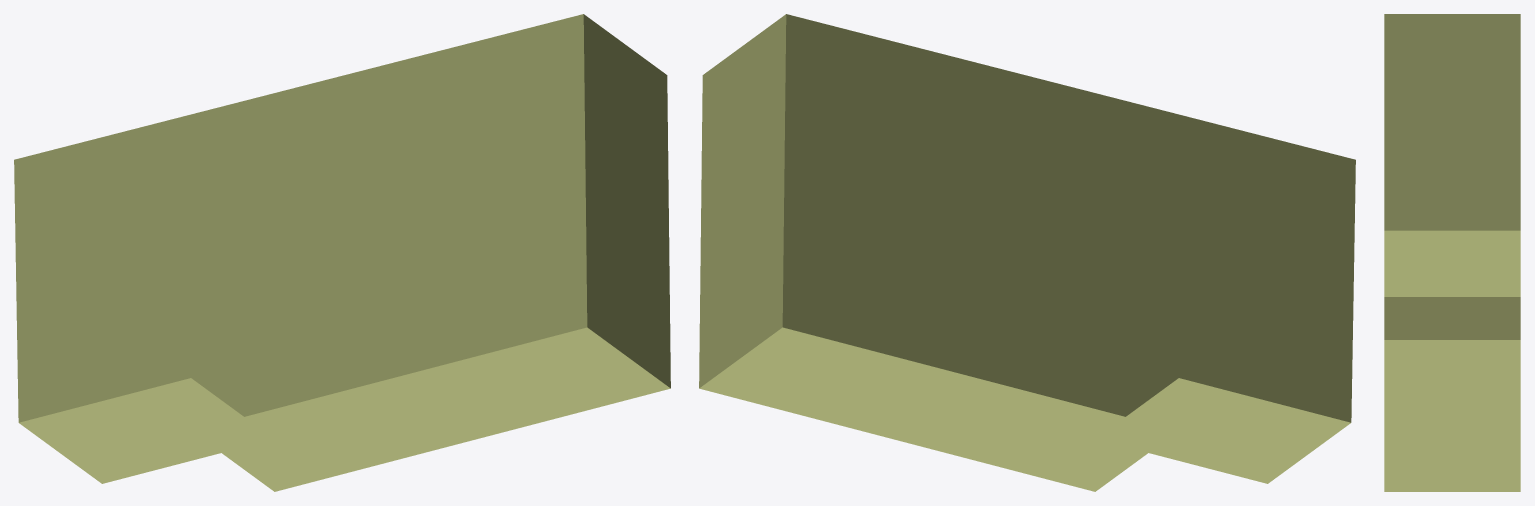
The picture shows the model from 3 angles, left to right: view 1: azimuth 30°, elevation 25°; view 2: azimuth 150°, elevation 25°; view 3: azimuth 270°, elevation 25°; orthographic projection. The views are drawn at different scales.
Parts seen in each view (by area): view 1: 0_3_2_0_3_1; view 2: 0_3_2_0_3_1; view 3: 0_3_2_0_3_1.
Boxes of the visible parts, <box> form: 0_3_2_0_3_1: <box>14,14,670,491</box>; 0_3_2_0_3_1: <box>699,14,1355,491</box>; 0_3_2_0_3_1: <box>1384,14,1520,491</box>.
Size of the model in its own units: 23.76 by 12.71 by 6.
